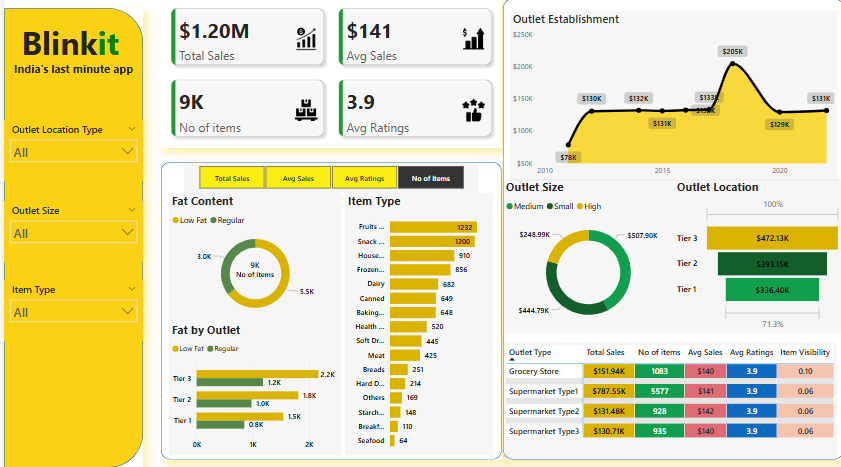

Layout of this report page (visuals, bound fields, positions):
{"tool":"powerbi","page":{"name":"Page 1","canvas":[1400,800],"ordinal":0},"visuals":[{"type":"shape","box":[0,16,232,766.4],"z":0},{"type":"textbox","box":[0,100.8,232,40],"z":1000},{"type":"textbox","box":[20.8,32,180.8,89.6],"z":2000},{"type":"cardVisual","fields":{"Data":["BlinkIT Grocery Data.Total Sales","BlinkIT Grocery Data.Avg Sales","BlinkIT Grocery Data.No of items","BlinkIT Grocery Data.Avg Ratings"]},"box":[262.4,0,568,249.6],"z":3000},{"type":"shape","box":[262.4,273.6,568,496],"z":4000},{"type":"donutChart","title":"Fat Content","fields":{"Y":["BlinkIT Grocery Data.No of items"],"Category":["BlinkIT Grocery Data.Item Fat Content"]},"box":[275.2,324.8,288,214.4],"z":5000},{"type":"slicer","fields":{"Values":["Matrix.Matrix"]},"box":[299.2,273.6,489.6,51.2],"z":6000},{"type":"cardVisual","fields":{"Data":["BlinkIT Grocery Data.No of items"]},"box":[363.2,417.6,110.4,65.6],"z":7000},{"type":"clusteredBarChart","title":"Fat by Outlet ","fields":{"Y":["BlinkIT Grocery Data.No of items"],"Category":["BlinkIT Grocery Data.Outlet Location Type"],"Series":["BlinkIT Grocery Data.Item Fat Content"]},"box":[275.2,539.2,288,222.4],"z":8000},{"type":"barChart","title":"Item Type","fields":{"Y":["BlinkIT Grocery Data.No of items"],"Category":["BlinkIT Grocery Data.Item Type"]},"box":[568,324.8,246.4,436.8],"z":9000},{"type":"shape","box":[832,0,568,769.6],"z":10000},{"type":"lineChart","title":"Outlet Establishment ","fields":{"Category":["BlinkIT Grocery Data.Outlet Establishment Year"],"Y":["BlinkIT Grocery Data.Total Sales"]},"box":[843.2,22.4,545.6,283.2],"z":11000},{"type":"donutChart","title":"Outlet Size","fields":{"Category":["BlinkIT Grocery Data.Outlet Size"],"Y":["BlinkIT Grocery Data.Total Sales"]},"box":[832,302.4,284.8,257.6],"z":12000},{"type":"funnel","title":"Outlet Location ","fields":{"Category":["BlinkIT Grocery Data.Outlet Location Type"],"Y":["BlinkIT Grocery Data.Total Sales"]},"box":[1116.8,302.4,283.2,257.6],"z":13000},{"type":"pivotTable","title":"Outlet Type","fields":{"Rows":["BlinkIT Grocery Data.Outlet Type"],"Values":["BlinkIT Grocery Data.Total Sales","BlinkIT Grocery Data.No of items","BlinkIT Grocery Data.Avg Sales","BlinkIT Grocery Data.Avg Ratings","Avg(BlinkIT Grocery Data.Item Visibility)"]},"box":[832,572.8,556.8,196.8],"z":14000},{"type":"slicer","fields":{"Values":["BlinkIT Grocery Data.Outlet Location Type"]},"box":[0,203.2,232,102.4],"z":15000},{"type":"slicer","fields":{"Values":["BlinkIT Grocery Data.Outlet Size"]},"box":[0,337.6,232,102.4],"z":16000},{"type":"slicer","fields":{"Values":["BlinkIT Grocery Data.Item Type"]},"box":[0,470.4,232,102.4],"z":17000}]}

Visuals, with their boxes in screenshot pixels (x1, y1, x2, y2), scaled from the page's 1400x800 canvas onto the 841x467 screenshot:
shape: region(0, 9, 139, 457)
textbox: region(0, 59, 139, 82)
textbox: region(12, 19, 121, 71)
cardVisual - BlinkIT Grocery Data.Total Sales x BlinkIT Grocery Data.Avg Sales: region(158, 0, 499, 146)
shape: region(158, 160, 499, 449)
"Fat Content" donutChart: region(165, 190, 338, 315)
slicer - Matrix.Matrix: region(180, 160, 474, 190)
cardVisual - BlinkIT Grocery Data.No of items: region(218, 244, 284, 282)
"Fat by Outlet " clusteredBarChart: region(165, 315, 338, 445)
"Item Type" barChart: region(341, 190, 489, 445)
shape: region(500, 0, 840, 449)
"Outlet Establishment " lineChart: region(507, 13, 834, 178)
"Outlet Size" donutChart: region(500, 177, 671, 327)
"Outlet Location " funnel: region(671, 177, 840, 327)
"Outlet Type" pivotTable: region(500, 334, 834, 449)
slicer - BlinkIT Grocery Data.Outlet Location Type: region(0, 119, 139, 178)
slicer - BlinkIT Grocery Data.Outlet Size: region(0, 197, 139, 257)
slicer - BlinkIT Grocery Data.Item Type: region(0, 275, 139, 334)
